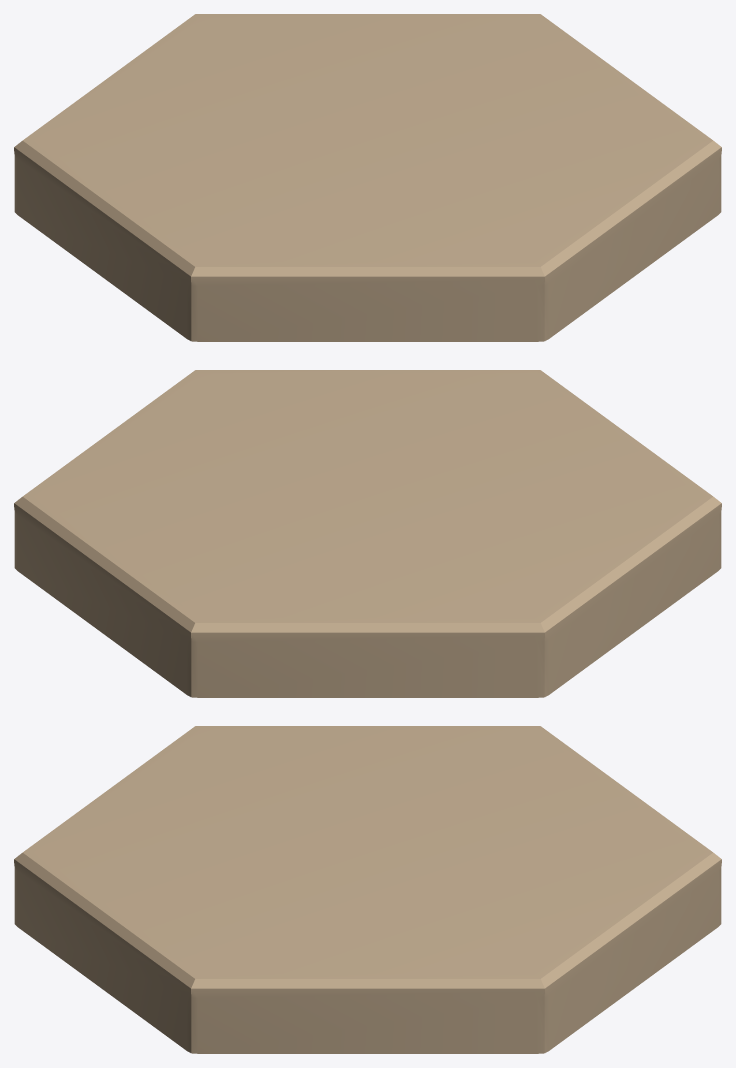
Rendered from tile_base.glb.
The picture shows the model from 3 angles, top to bottom: view 1: azimuth 30°, elevation 25°; view 2: azimuth 150°, elevation 25°; view 3: azimuth 270°, elevation 25°; orthographic projection.
Parts seen in each view (by area): view 1: tile_base; view 2: tile_base; view 3: tile_base.
Part boxes in pixels (x1,y1,x2,y2): tile_base: [14, 14, 721, 341]; tile_base: [14, 370, 721, 697]; tile_base: [14, 726, 721, 1053].
Size of the model in its own units: 1.7 by 0.22 by 1.96.
